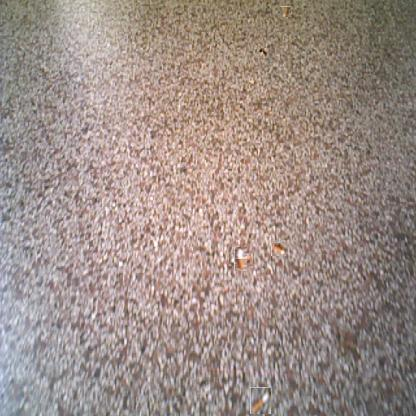dirty: (250, 387, 271, 414), (232, 250, 250, 269), (271, 242, 286, 257), (280, 7, 291, 17), (258, 47, 268, 57)
